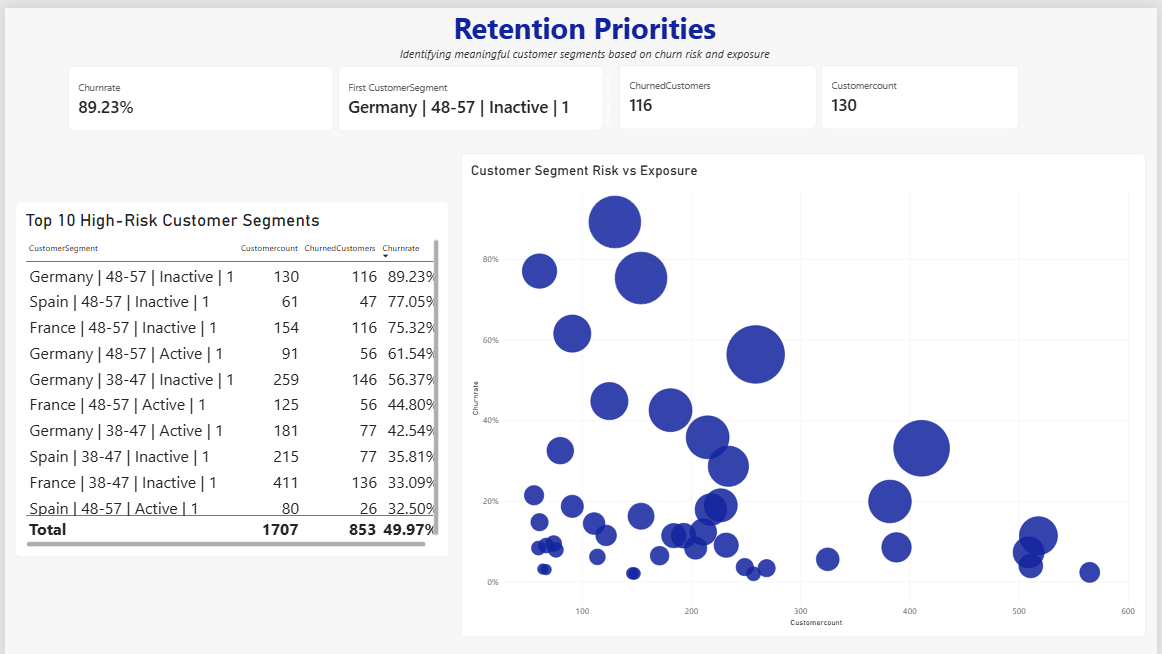

This screenshot's page, from the dashboard's own definition file:
{"tool":"powerbi","page":{"name":"High-risk ","canvas":[1920,1080],"ordinal":1},"visuals":[{"type":"tableEx","title":"Top 10 High-Risk Customer Segments","fields":{"Values":["bankdata.CustomerSegment","bankdata.Customercount","bankdata.ChurnedCustomers","bankdata.Churnrate"]},"box":[18.3,322.8,722.7,592.8],"z":0},{"type":"cardVisual","fields":{"Data":["bankdata.Churnrate","Min(bankdata.CustomerSegment)"]},"box":[105,97.5,892.5,107.5],"z":1000},{"type":"cardVisual","fields":{"Data":["bankdata.ChurnedCustomers","bankdata.Customercount"],"Rows":["bankdata.CustomerSegment"]},"box":[997.5,95,692.5,107.5],"z":2000},{"type":"scatterChart","title":"Customer Segment Risk vs Exposure","fields":{"Category":["bankdata.CustomerSegment"],"Size":["bankdata.ChurnedCustomers"],"X":["bankdata.Customercount"],"Y":["bankdata.Churnrate"]},"box":[759.2,243.6,1140.9,805.9],"z":3000},{"type":"textbox","box":[32.5,0,1867.5,150],"z":4000}]}

Visuals, with their boxes in screenshot pixels (x1, y1, x2, y2), scaled from the page's 1920x1080 canvas onto the 1162x654 screenshot:
"Top 10 High-Risk Customer Segments" tableEx: 11,195,448,554
cardVisual - bankdata.Churnrate x Min(bankdata.CustomerSegment): 64,59,604,124
cardVisual - bankdata.ChurnedCustomers x bankdata.Customercount: 604,58,1023,123
"Customer Segment Risk vs Exposure" scatterChart: 459,148,1150,636
textbox: 20,0,1150,91
